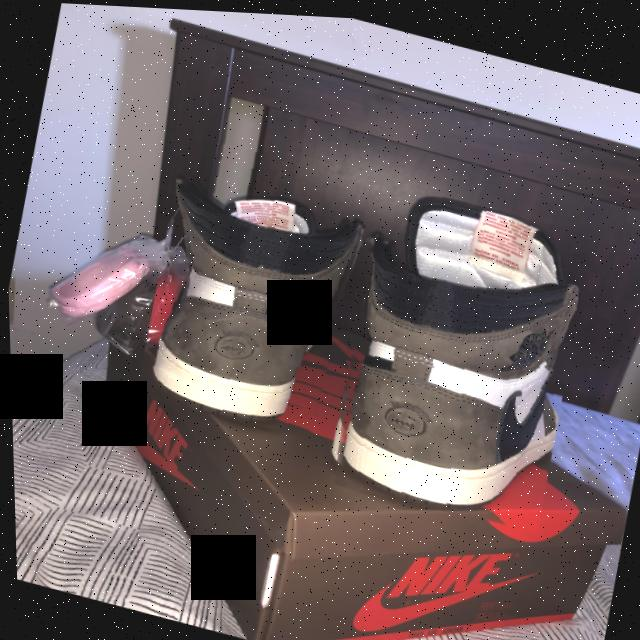shoe: (309, 171, 597, 534), (127, 121, 380, 444)
